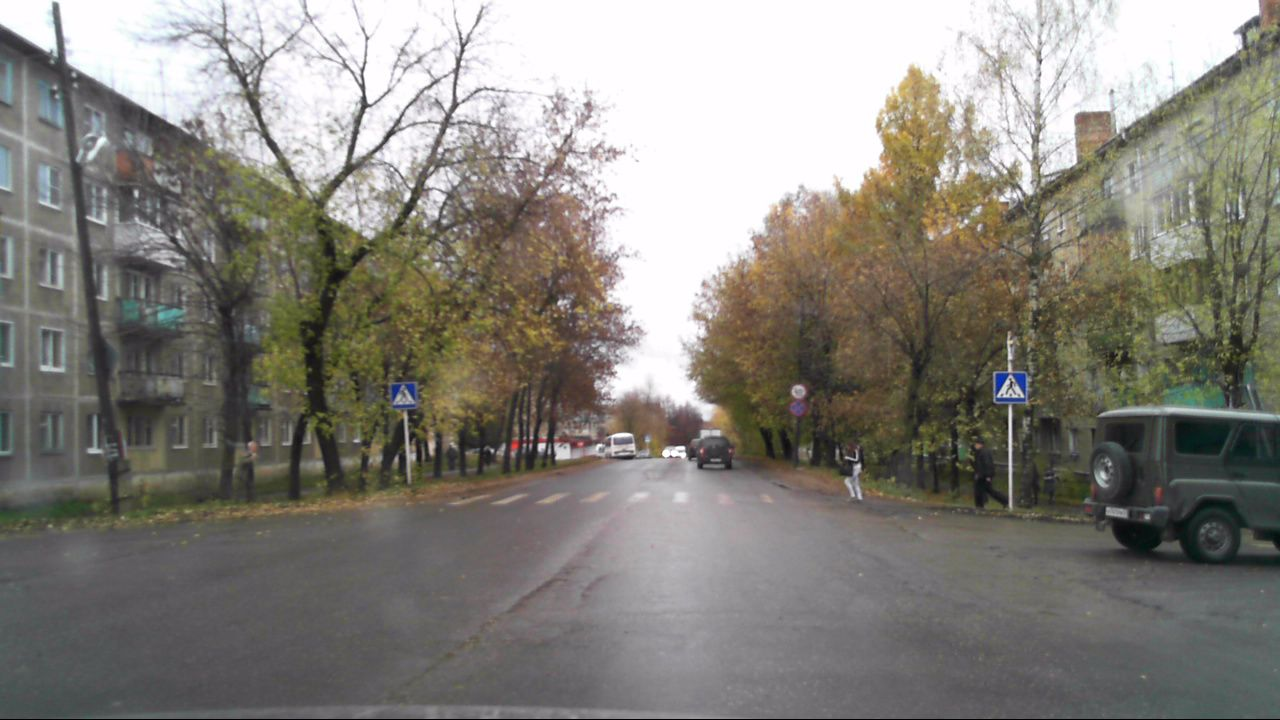No Parking: (788, 397, 809, 418)
speed_warning_40: (789, 381, 809, 401)
